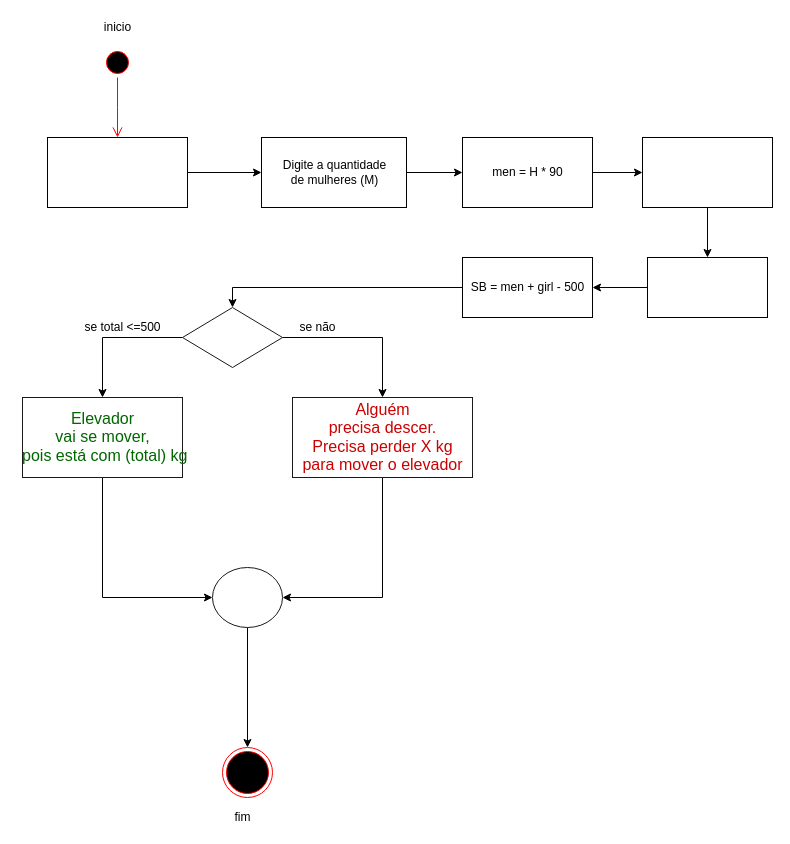
Some shapes in this 790 by 844 pixel diagram are drawn without their labels. The centre of each missing label's shape, as x and y in pixels:
Digite a quatidade de homens (H): [117,172]
girl = M * 70: [707,172]
total = men + girl: [707,287]
